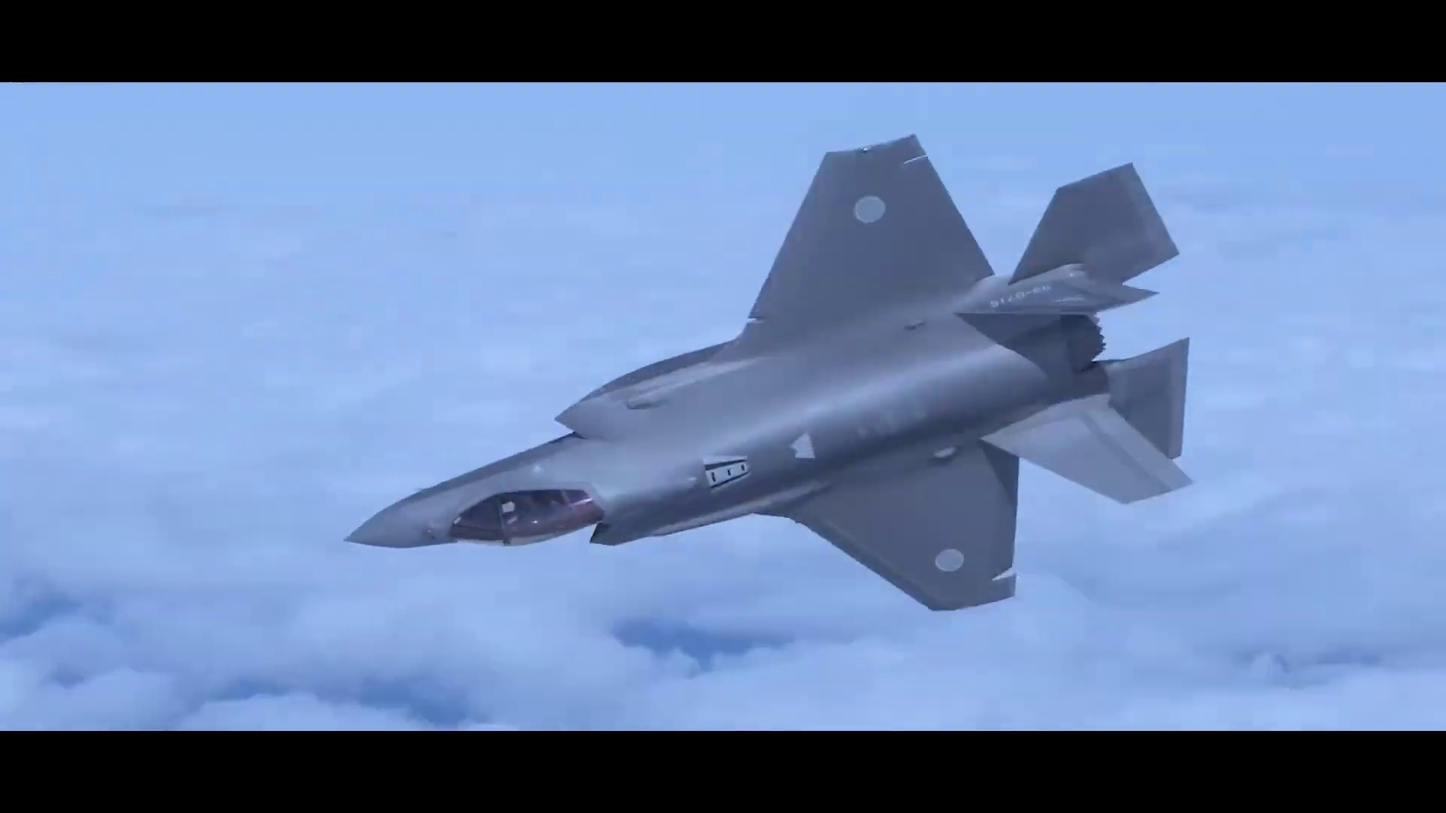F35: (336, 125, 1207, 623)
